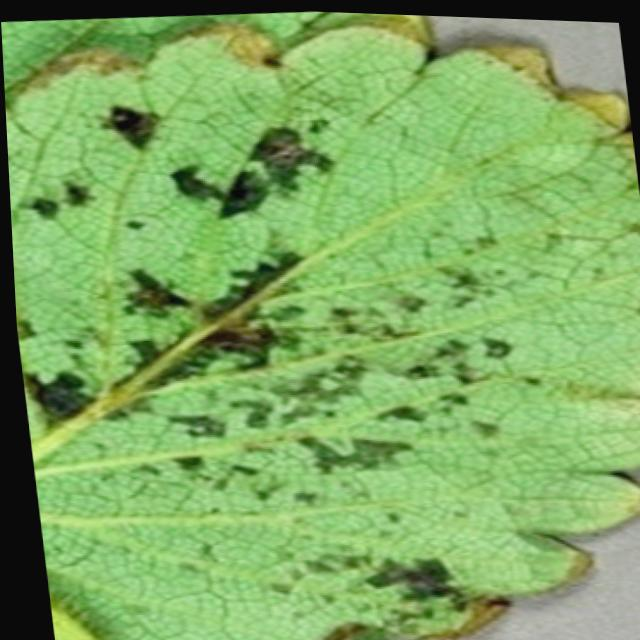Angular Leafspot: (4, 10, 640, 640)
